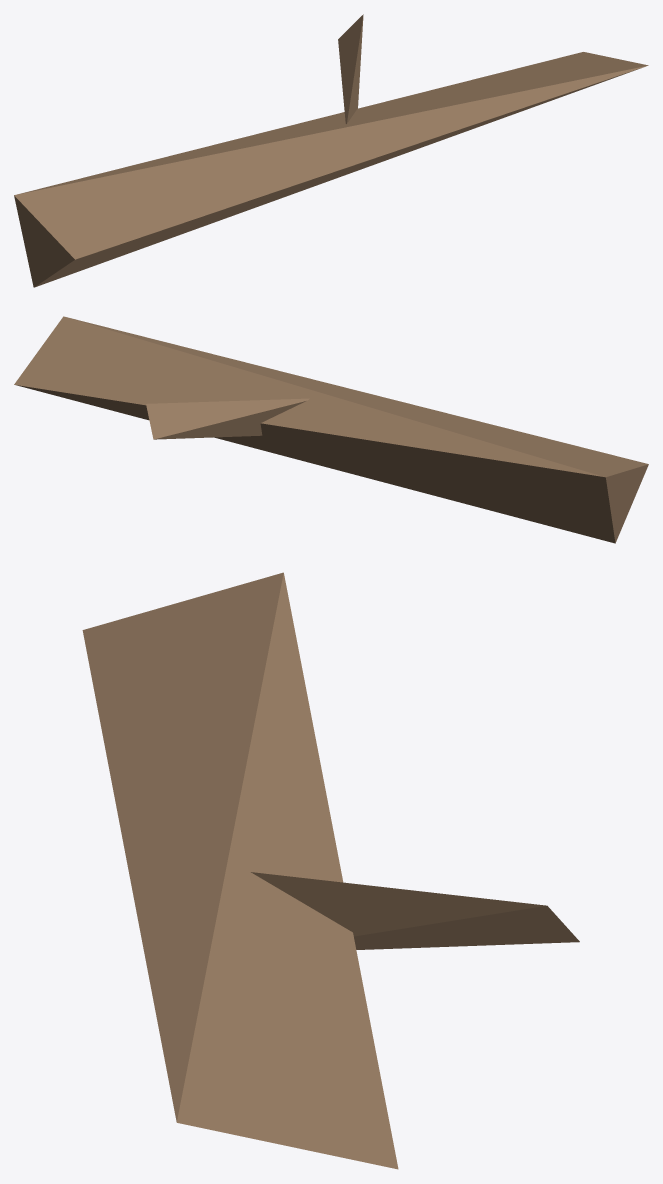
Rendered from beach.driftwood.lod2.glb.
The picture shows the model from 3 angles, top to bottom: view 1: azimuth 30°, elevation 25°; view 2: azimuth 150°, elevation 25°; view 3: azimuth 270°, elevation 25°; orthographic projection. The views are drawn at different scales.
Visible parts, largest first — view 1: Trunk, Branch; view 2: Trunk, Branch; view 3: Trunk, Branch.
Boxes of the visible parts, x1,y1,x2,y2 form: Trunk: [14, 52, 648, 287]; Branch: [338, 14, 363, 123]; Trunk: [14, 316, 648, 543]; Branch: [146, 398, 309, 439]; Trunk: [82, 572, 398, 1169]; Branch: [251, 872, 579, 949].
Size of the model in its own units: 2.83 by 0.4914 by 1.07.
